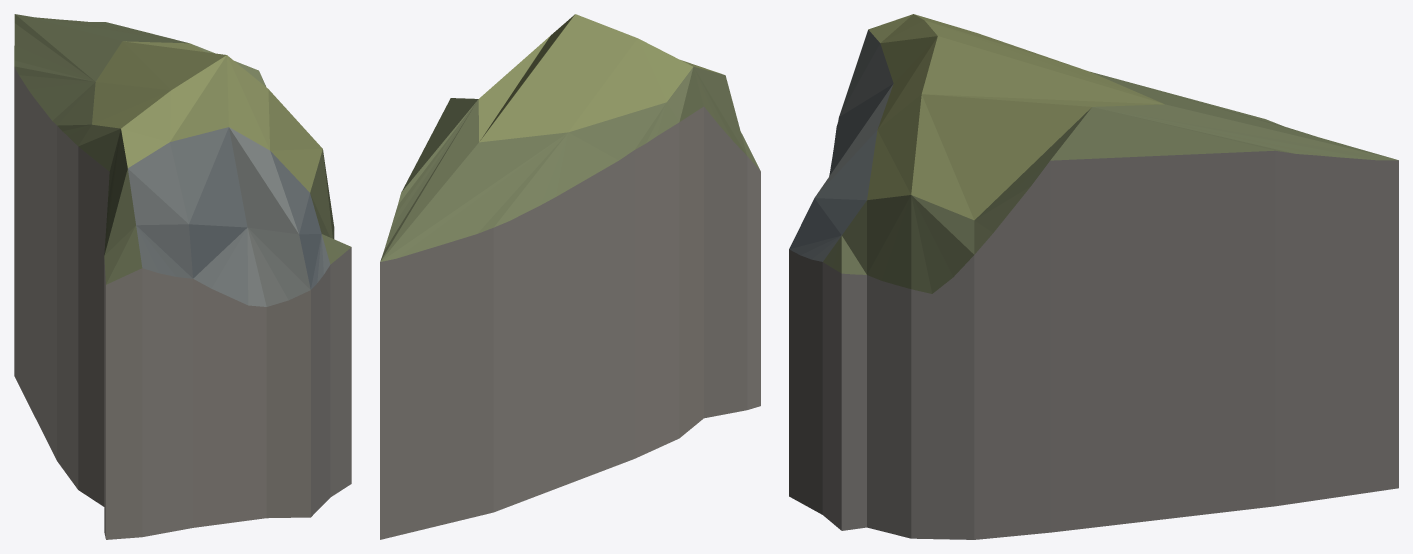
Rendered from cliff_central_wall.glb.
3 views of the same model, side by side, from view 1: azimuth 30°, elevation 25°; view 2: azimuth 150°, elevation 25°; view 3: azimuth 270°, elevation 25° (orthographic). The views are drawn at different scales.
Visible parts, largest first — view 1: cliff_central_wall; view 2: cliff_central_wall; view 3: cliff_central_wall.
Boxes of the visible parts, <box> form: cliff_central_wall: <box>14,14,351,539</box>; cliff_central_wall: <box>380,14,760,539</box>; cliff_central_wall: <box>789,14,1398,539</box>.
Size of the model in its own units: 51.4 by 79 by 96.56.
